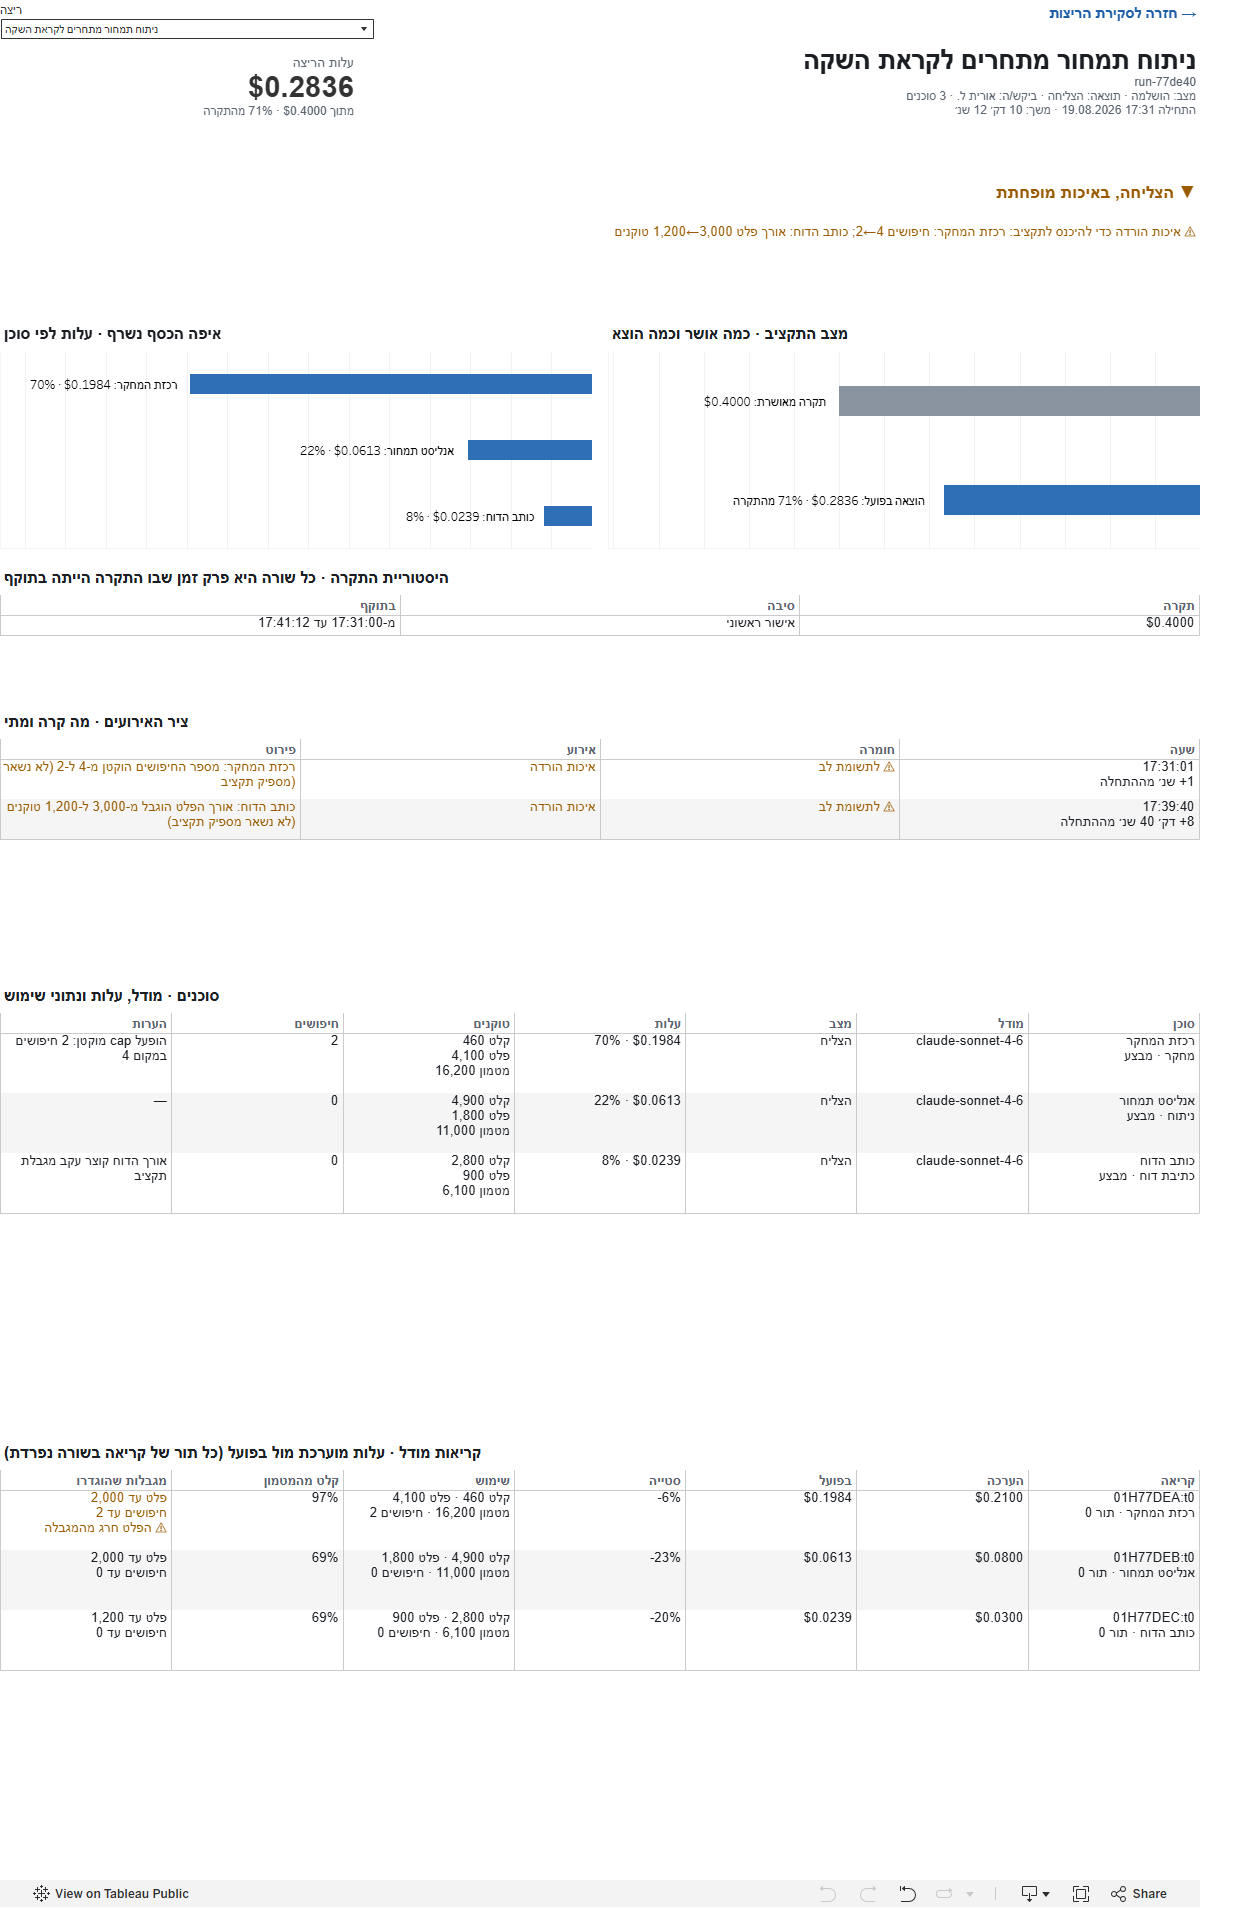

This screenshot's page, from the dashboard's own definition file:
{"tool":"tableau","page":{"name":"פרטי ריצה","canvas":[1200,1880],"ordinal":1},"visuals":[{"type":"parameter","param":"[Parameters].[pRun]","box":[24,6,480,52]},{"type":"worksheet","title":"חזרה","mark":"Text","box":[876,10,300,34]},{"type":"worksheet","title":"כותרת ריצה","mark":"Text","box":[384,50,792,134]},{"type":"worksheet","title":"עלות הריצה","mark":"Text","box":[24,60,344,248]},{"type":"worksheet","title":"פסק הדין","mark":"Text","box":[384,186,792,40]},{"type":"worksheet","title":"סיבות","mark":"Text","box":[384,228,792,84]},{"type":"worksheet","title":"עלות לפי סוכן","mark":"Bar","rows":["node_order"],"cols":["cost_micro_usd"],"box":[24,320,568,230]},{"type":"worksheet","title":"מצב התקציב","mark":"Bar","rows":["bar_order"],"cols":["value_micro_usd"],"box":[608,320,568,230]},{"type":"worksheet","title":"היסטוריית התקרה","mark":"Text","rows":["row_order"],"cols":["col_pos","col_header"],"box":[24,562,1152,130]},{"type":"worksheet","title":"ציר אירועים","mark":"Text","rows":["row_order"],"cols":["col_pos","col_header"],"box":[24,704,1152,260]},{"type":"worksheet","title":"סוכנים","mark":"Text","rows":["row_order"],"cols":["col_pos","col_header"],"box":[24,976,1152,440]},{"type":"worksheet","title":"קריאות מודל","mark":"Text","rows":["row_order"],"cols":["col_pos","col_header"],"box":[24,1428,1152,440]}]}

Visuals, with their boxes on the page's 1200x1880 design canvas (x1, y1, x2, y2). These are canvas units, not pixel positions in the 1240x1920 screenshot, which may show the page scaled, cropped or inside an application window:
parameter: locate(24, 6, 504, 58)
"חזרה" worksheet (Text marks): locate(876, 10, 1176, 44)
"כותרת ריצה" worksheet (Text marks): locate(384, 50, 1176, 184)
"עלות הריצה" worksheet (Text marks): locate(24, 60, 368, 308)
"פסק הדין" worksheet (Text marks): locate(384, 186, 1176, 226)
"סיבות" worksheet (Text marks): locate(384, 228, 1176, 312)
"עלות לפי סוכן" worksheet (Bar marks): locate(24, 320, 592, 550)
"מצב התקציב" worksheet (Bar marks): locate(608, 320, 1176, 550)
"היסטוריית התקרה" worksheet (Text marks): locate(24, 562, 1176, 692)
"ציר אירועים" worksheet (Text marks): locate(24, 704, 1176, 964)
"סוכנים" worksheet (Text marks): locate(24, 976, 1176, 1416)
"קריאות מודל" worksheet (Text marks): locate(24, 1428, 1176, 1868)
